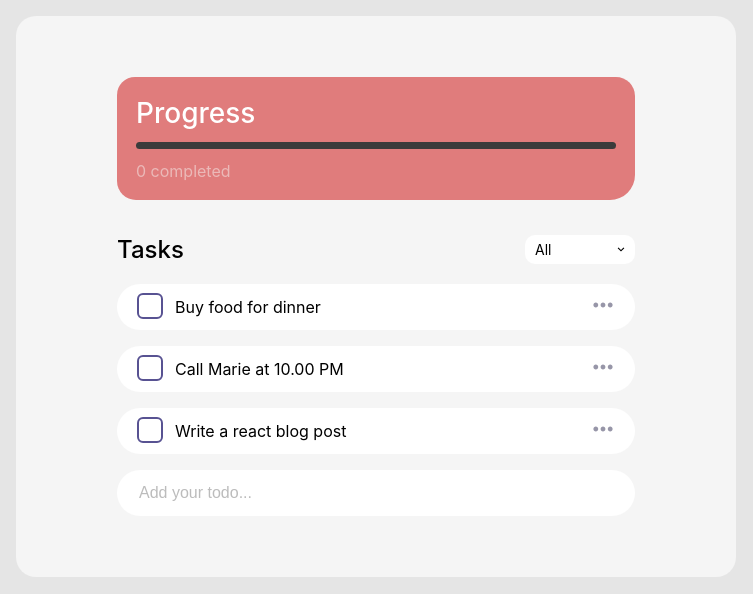
it: should edit a todo's title
Expected: the number of elements with test id "todo-item" is 3, [117,284,635,330]; [117,346,635,392]; [117,408,635,454]
Click the picture with alt text "Task Options" in the row of "Buy food for dinner" at point(603, 305), box [591,293,615,317]
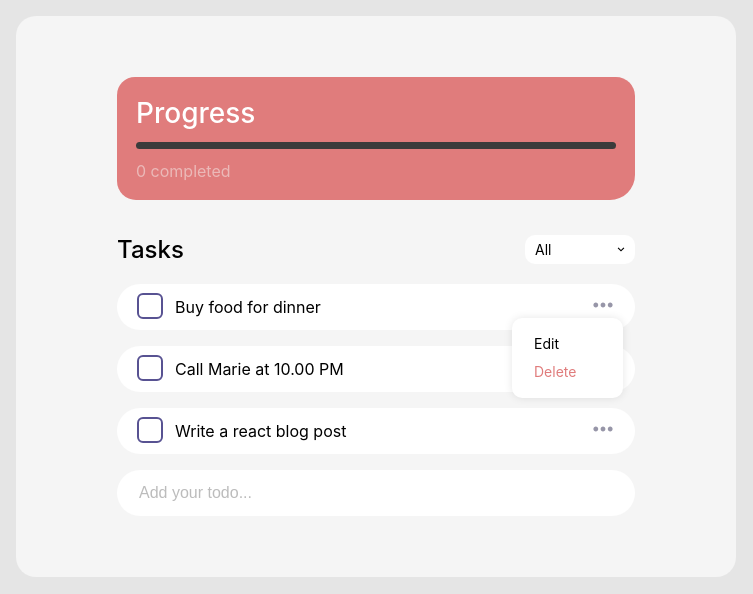
Click the text "Edit" at point(546, 344), box [534,335,559,352]
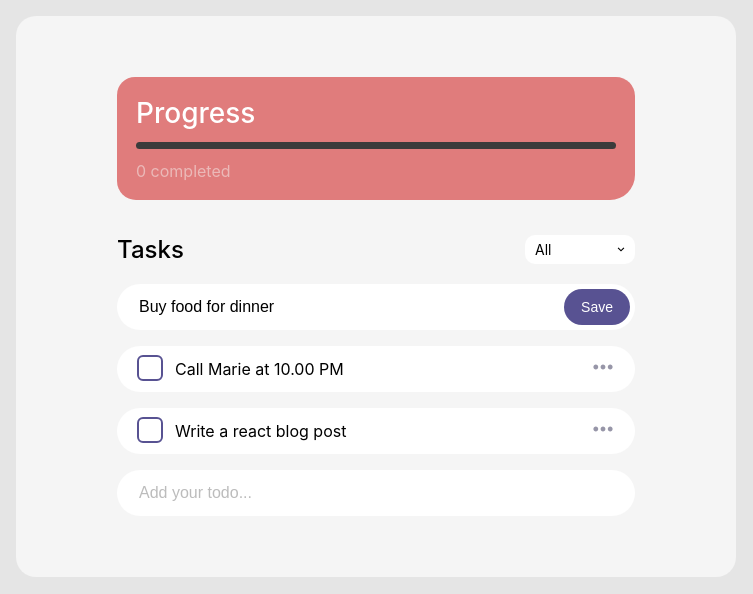
Replace the text in the field showing "buy food for dinner" with "Buy food for lunch" at point(345, 307), box [137,297,553,317]
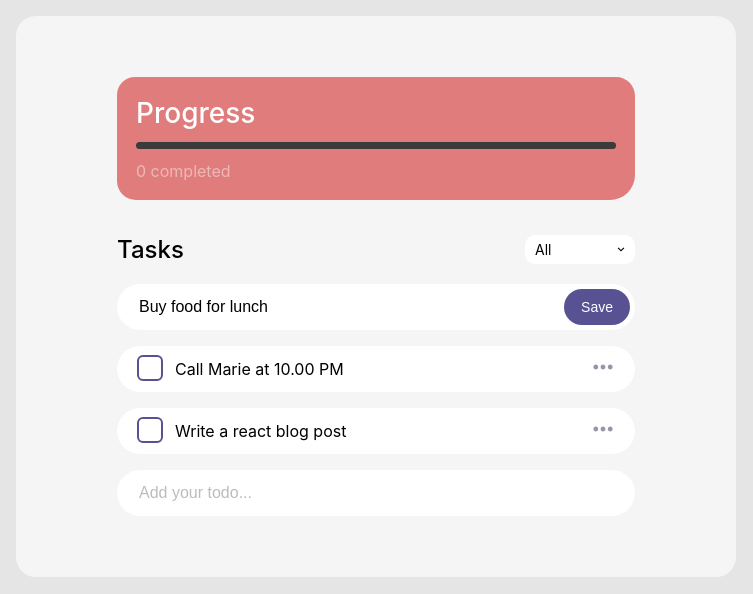
Click the button "Save" at point(597, 307), box [564,289,630,325]
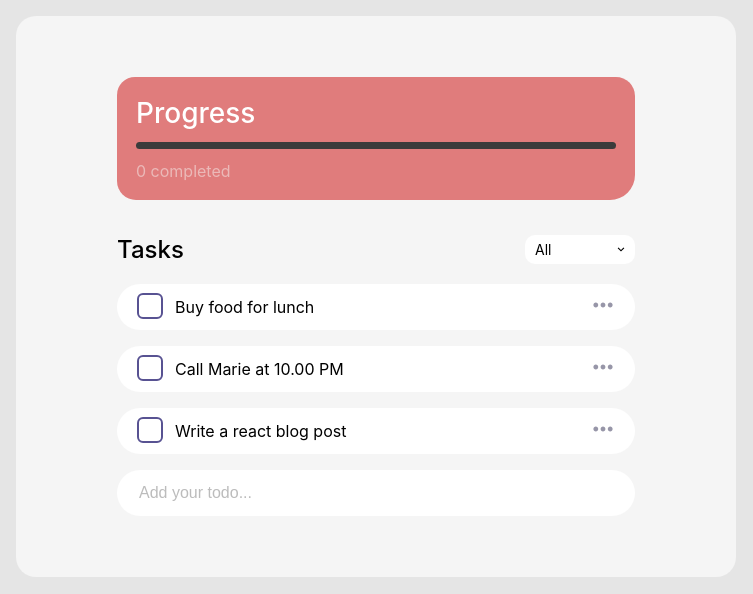
Expected: the checkbox "Buy food for lunch" is shown, [137,297,314,317]
